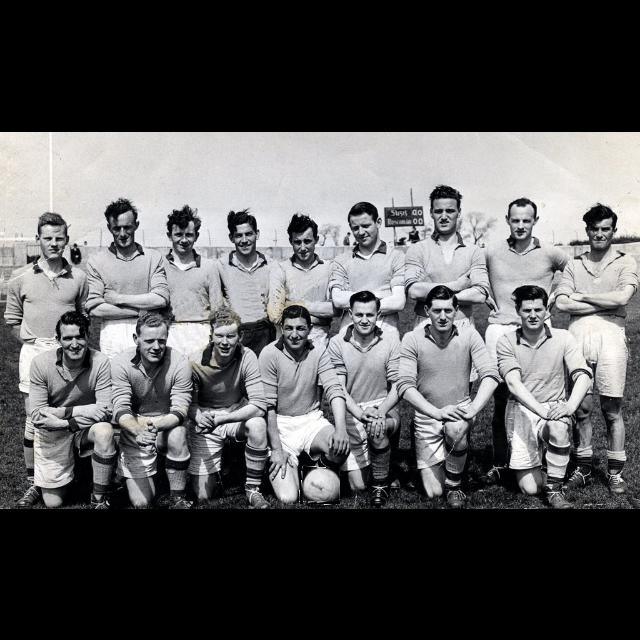Football: (300, 468, 340, 504)
